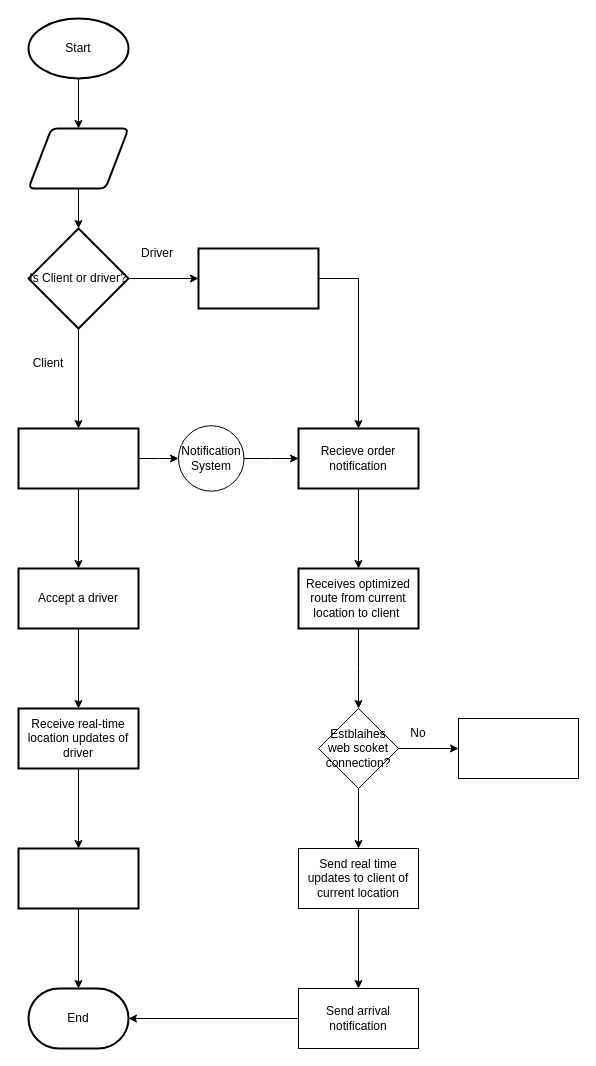
Image size: 596x1066. Some labels were removed from this diagram. The shapes that lost their labels are listed below. From the top down, each one's box as (x1, y1, x2, y2) in pixels, then its label:
(27, 127, 129, 189): Request User to register as a client or driver
(197, 247, 319, 309): Waits for order creation
(17, 427, 139, 489): Create an order
(458, 718, 578, 778): Kill driver connection
(17, 847, 139, 909): Receive notification when driver has arrived
